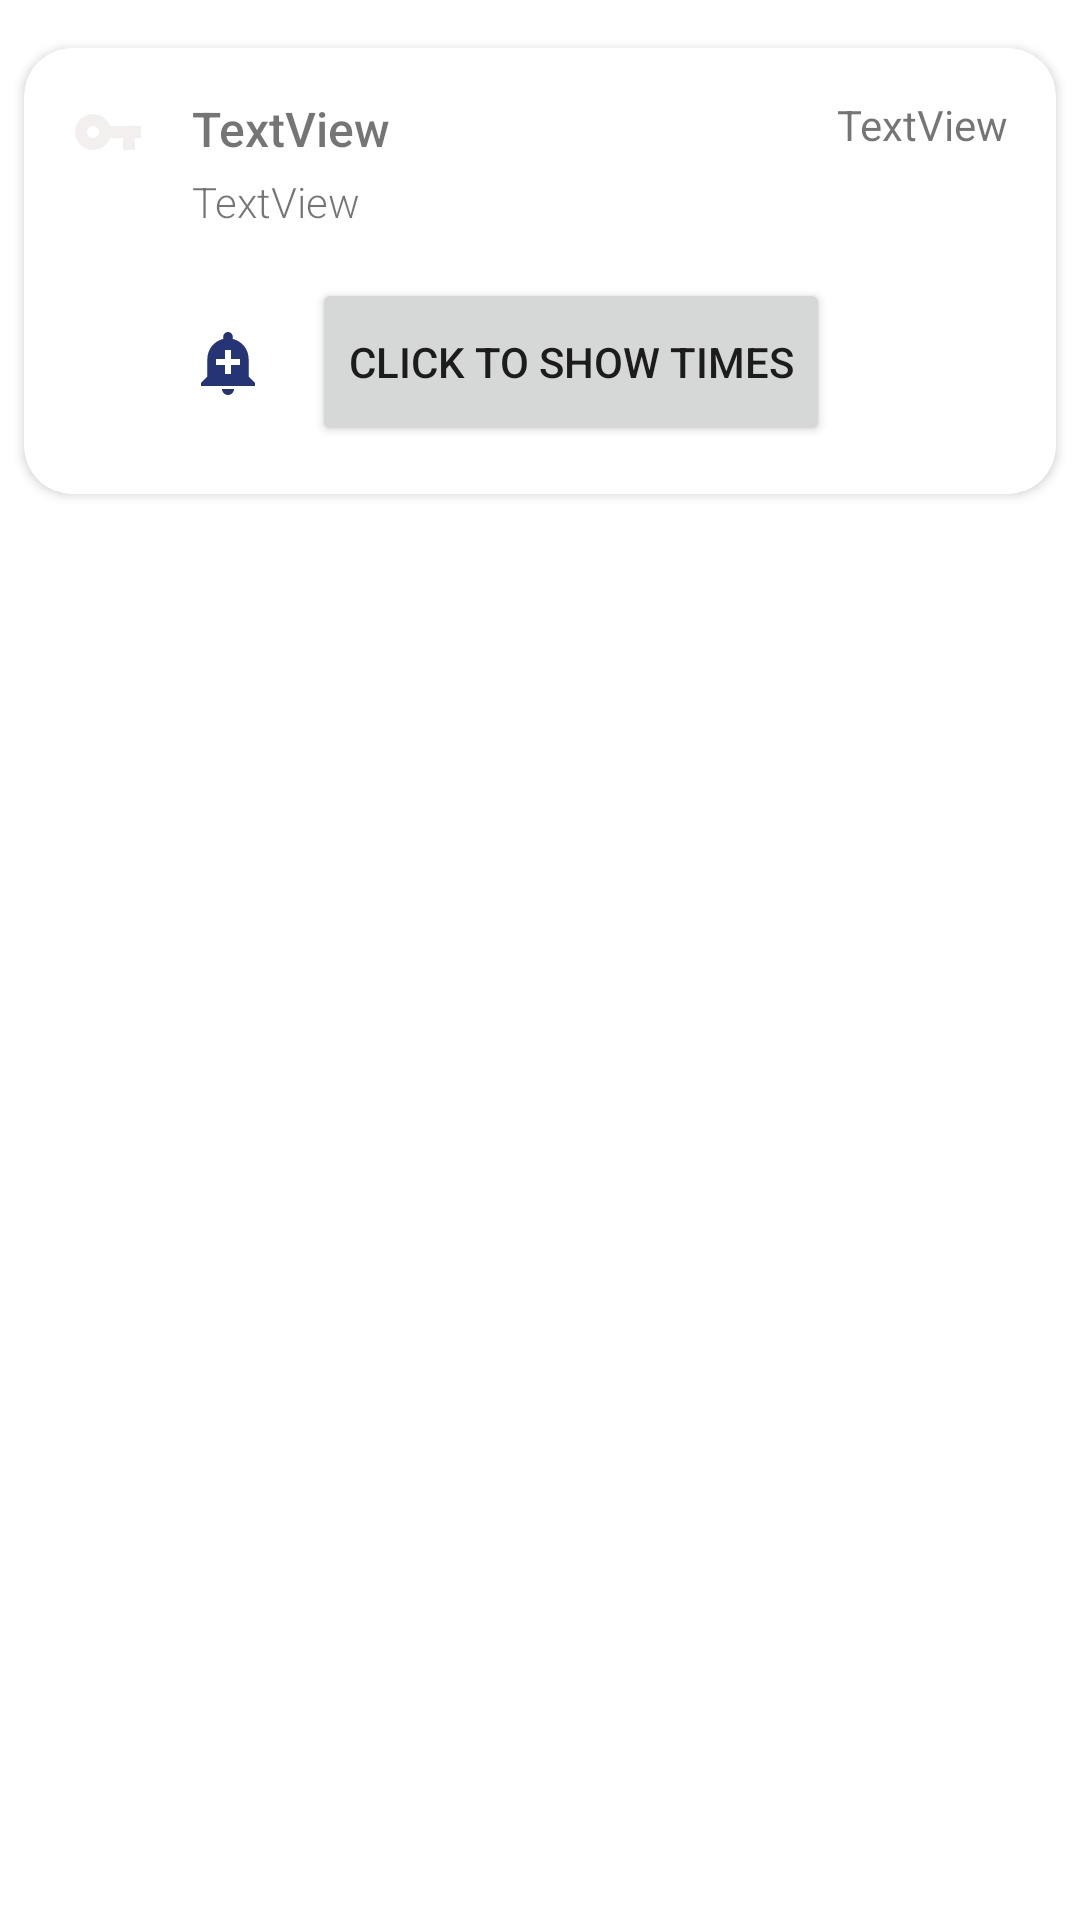

Screen size 1080px×1920px. Icon name, then its box in pixels as (x1,y1,x2,y2):
add alert: (201,332,255,395)
